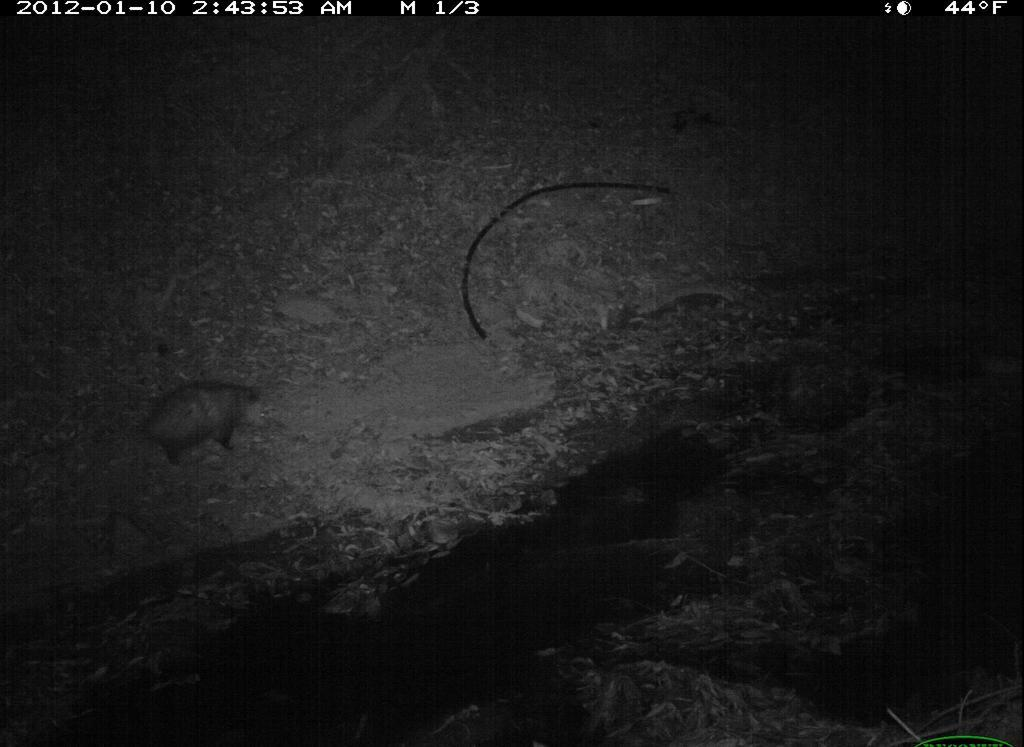opossum: (135, 373, 265, 479)
